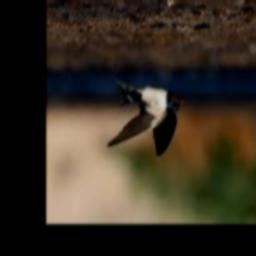Swallow: (107, 78, 184, 157)
